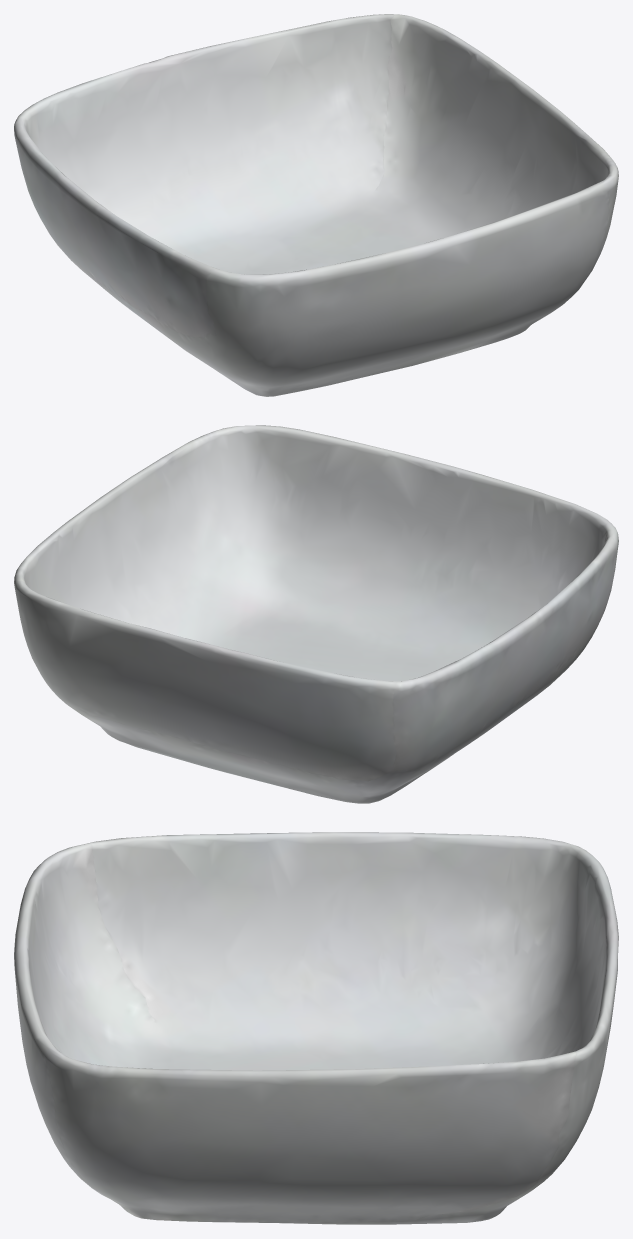
File: Neat_Solutions_Character_Bib_2_pack-high.glb
The picture shows the model from 3 angles, top to bottom: view 1: azimuth 30°, elevation 25°; view 2: azimuth 150°, elevation 25°; view 3: azimuth 270°, elevation 25°; orthographic projection. The views are drawn at different scales.
Visible parts, largest first — view 1: Neat_Solutions_Character_Bib_2_pack; view 2: Neat_Solutions_Character_Bib_2_pack; view 3: Neat_Solutions_Character_Bib_2_pack.
Boxes of the visible parts, box(x1,y1,x2,y2) form: Neat_Solutions_Character_Bib_2_pack: box(14, 14, 618, 396); Neat_Solutions_Character_Bib_2_pack: box(14, 425, 618, 803); Neat_Solutions_Character_Bib_2_pack: box(14, 832, 618, 1224).
Size of the model in its own units: 0.2052 by 0.0766 by 0.2049.
1 material, 1 textured.
